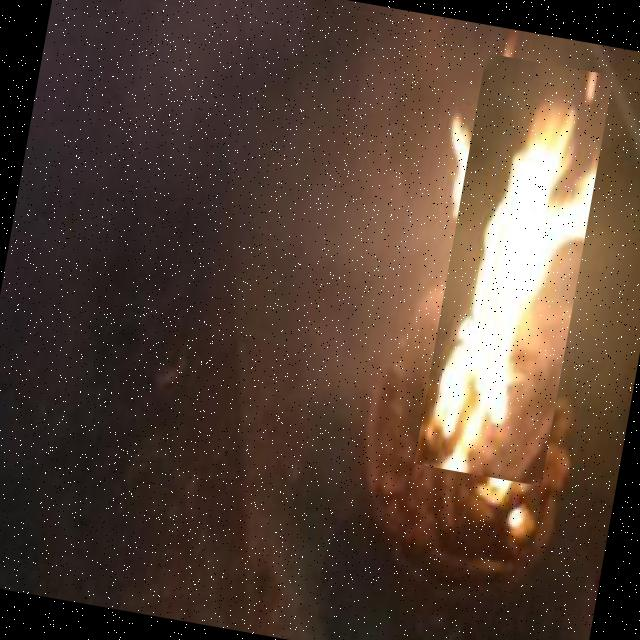fire: (413, 53, 612, 486)
